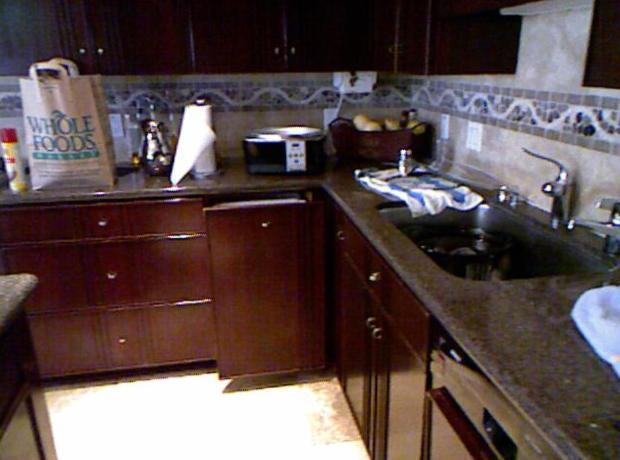Lavaplatos: (369, 156, 618, 305)
